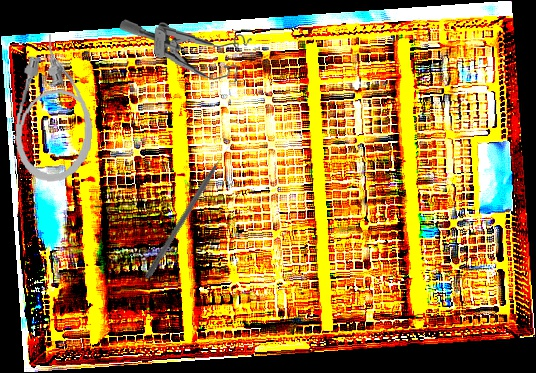Cannula: (11, 31, 101, 187)
Pusher: (143, 141, 235, 281)
Speculum: (116, 18, 254, 84)
